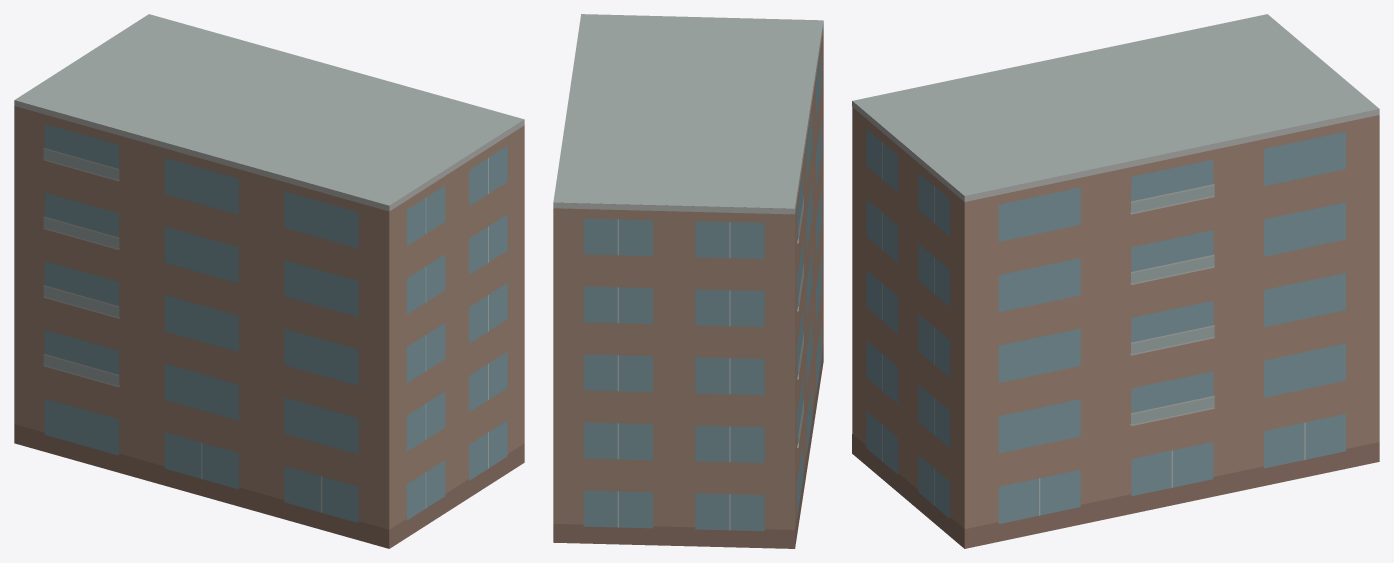
The model's file is survey-upis-32642320.glb.
3 views of the same model, side by side, from view 1: azimuth 30°, elevation 25°; view 2: azimuth 150°, elevation 25°; view 3: azimuth 270°, elevation 25° (orthographic). The views are drawn at different scales.
Visible parts, largest first — view 1: survey-upis-32642320.tmp; view 2: survey-upis-32642320.tmp; view 3: survey-upis-32642320.tmp.
Boxes of the visible parts, x1,y1,x2,y2 form: survey-upis-32642320.tmp: (14,14,524,548); survey-upis-32642320.tmp: (553,14,823,548); survey-upis-32642320.tmp: (852,14,1379,548).
Bounding box in the file's own units: 15.95 × 14.4 × 19.52.
